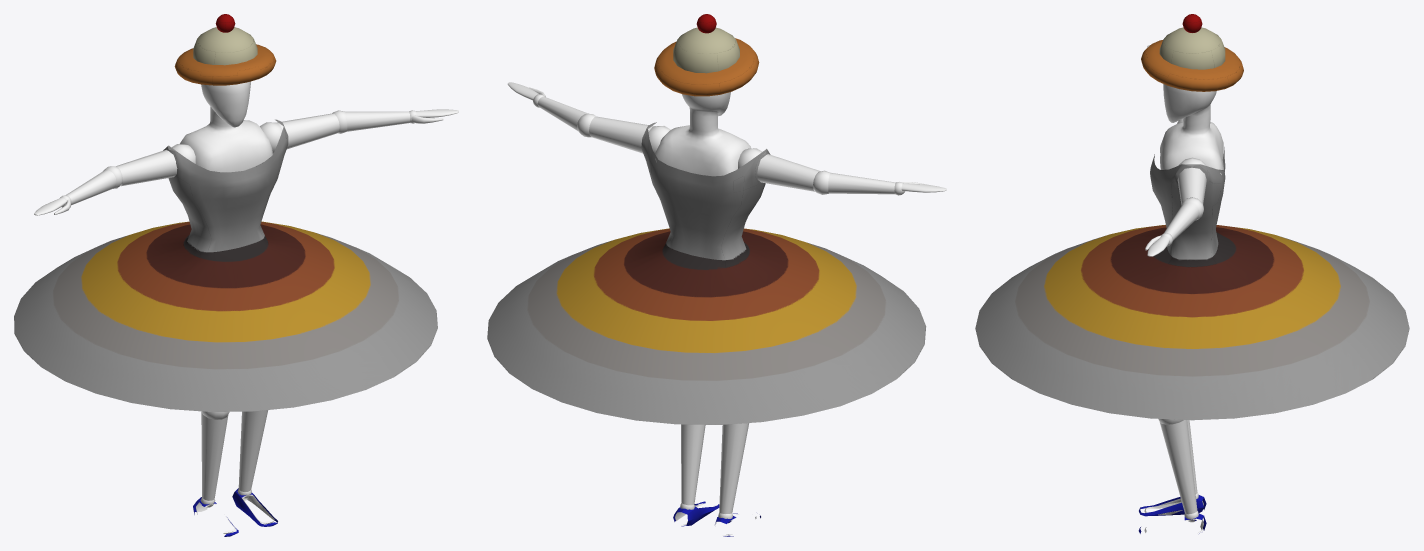
The model's file is CustomBG.gltf.
The picture shows the model from 3 angles, left to right: view 1: azimuth 30°, elevation 25°; view 2: azimuth 150°, elevation 25°; view 3: azimuth 270°, elevation 25°; orthographic projection. The views are drawn at different scales.
Parts seen in each view (by area): view 1: CustomBG_1_1; view 2: CustomBG_1_1; view 3: CustomBG_1_1.
Part boxes in pixels (bbox=[...]): CustomBG_1_1: bbox=[14, 14, 458, 536]; CustomBG_1_1: bbox=[487, 14, 946, 536]; CustomBG_1_1: bbox=[975, 14, 1409, 533].
Size of the model in its own units: 217 by 243 by 189.
2 materials, 1 textured.
